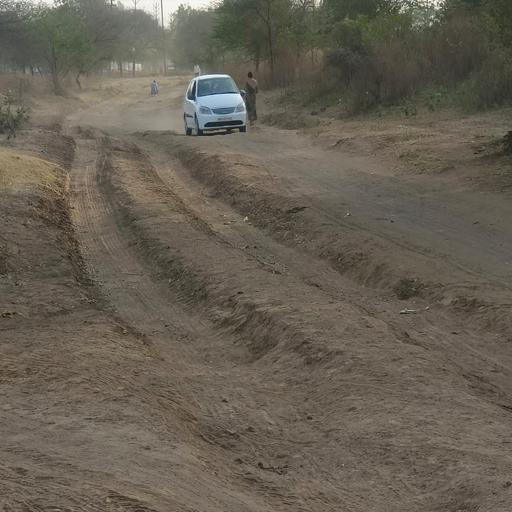vehicle_track: (69, 136, 417, 512), (128, 135, 512, 398), (213, 132, 512, 285)
